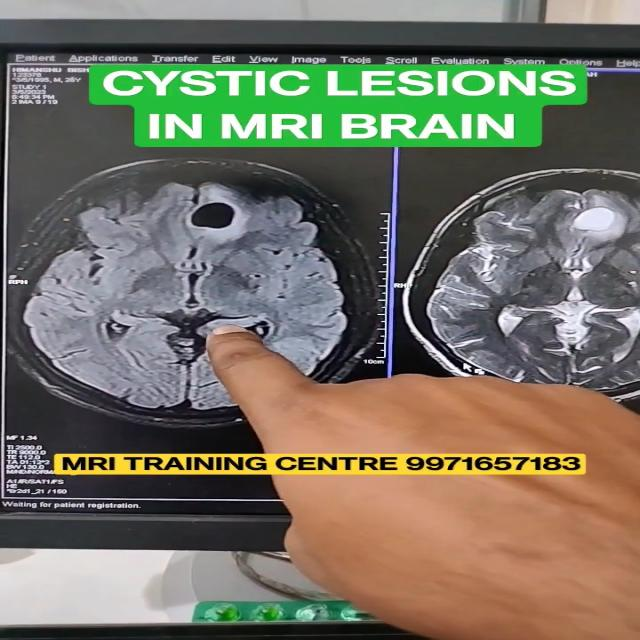tumor: (549, 194, 640, 248), (161, 201, 259, 243)
